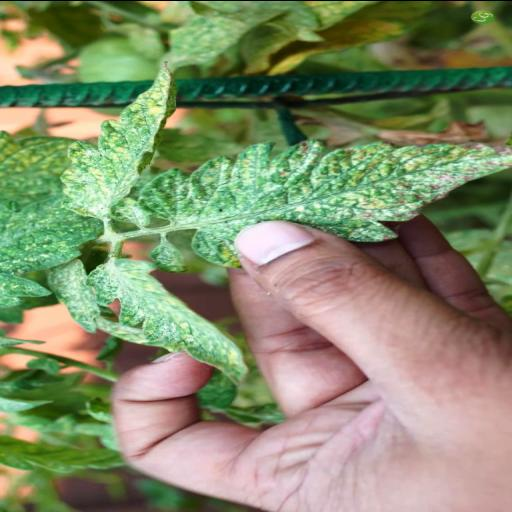Spider Mites: (142, 134, 512, 272), (79, 256, 249, 388), (52, 58, 180, 218), (0, 195, 105, 312), (0, 128, 85, 225), (46, 259, 98, 335)
